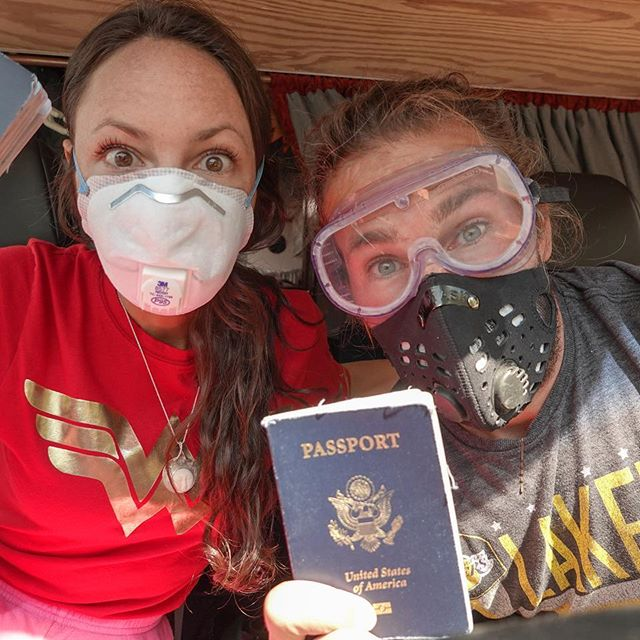homemade: (365, 263, 570, 425)
n95: (67, 165, 262, 319)
